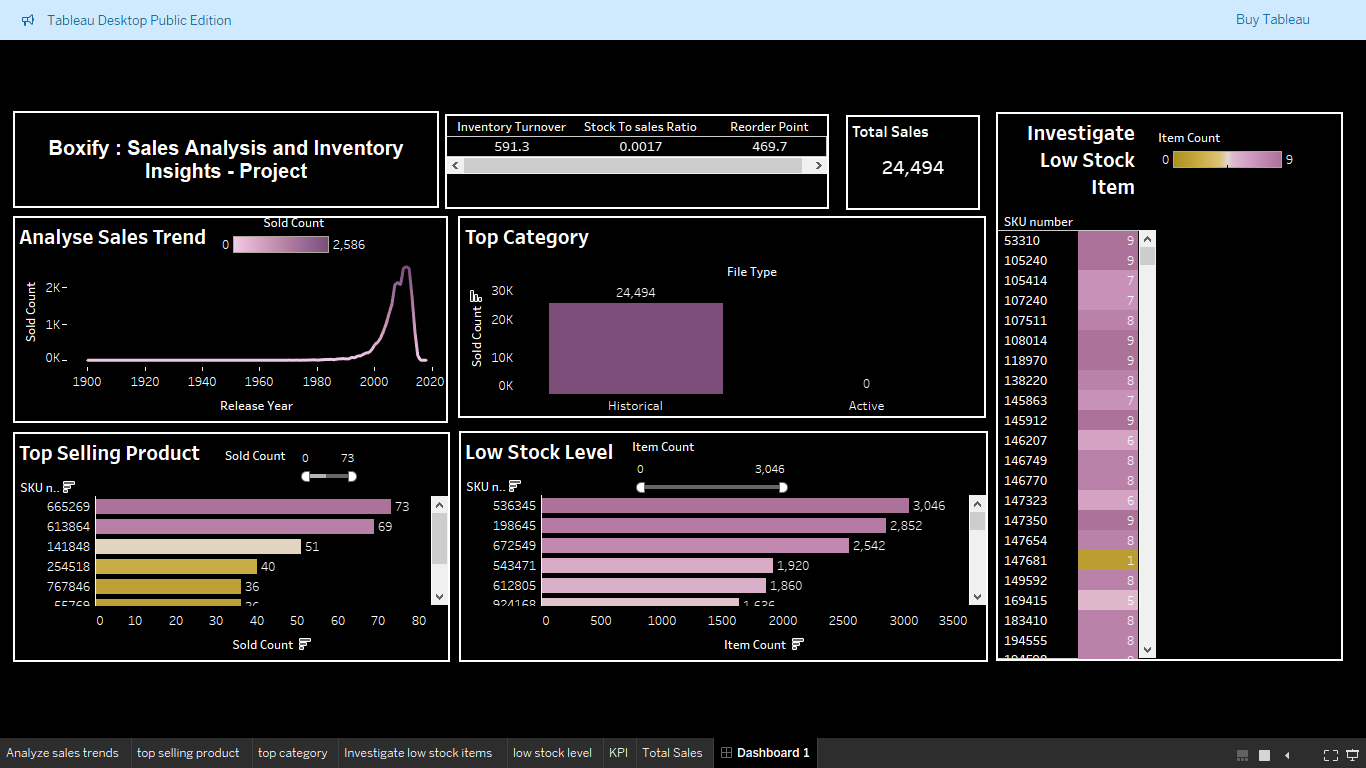

What the dashboard file says about the page in this screenshot:
{"tool":"tableau","page":{"name":"Dashboard 1","canvas":[1350,560],"ordinal":0},"visuals":[{"type":"text","box":[5,2,426,97]},{"type":"worksheet","title":"Investigate low stock items","mark":"Automatic","rows":["SKU_number"],"box":[988,3,347,549]},{"type":"worksheet","title":"KPI","mark":"Automatic","box":[437,5,384,95]},{"type":"worksheet","title":"Total Sales","mark":"Automatic","box":[838,6,134,95]},{"type":"legend","title":"Investigate low stock items","param":"[federated.0tz051w0s7qlxx1895oge1tk6e6b].[sum:ItemCount:qk]","box":[1150,20,140,76]},{"type":"legend","title":"Analyze sales trends","param":"[federated.0tz051w0s7qlxx1895oge1tk6e6b].[sum:SoldCount:qk]","box":[210,105,152,41]},{"type":"worksheet","title":"Analyze sales trends","mark":"Line","rows":["SoldCount"],"cols":["ReleaseYear"],"box":[5,107,435,207]},{"type":"worksheet","title":"top category","mark":"Bar","rows":["SoldCount"],"cols":["File_Type"],"box":[450,107,528,202]},{"type":"worksheet","title":"low stock level","mark":"Automatic","rows":["SKU_number"],"cols":["ItemCount"],"box":[451,322,529,231]},{"type":"worksheet","title":"top selling product","mark":"Automatic","rows":["SKU_number"],"cols":["SoldCount"],"box":[5,323,437,230]},{"type":"filter","title":"low stock level","param":"[federated.0tz051w0s7qlxx1895oge1tk6e6b].[sum:ItemCount:qk]","box":[624,329,160,57]},{"type":"filter","title":"top selling product","param":"[federated.0tz051w0s7qlxx1895oge1tk6e6b].[sum:SoldCount:qk]","box":[217,336,136,37]}]}

Visuals, with their boxes in screenshot pixels (x1, y1, x2, y2):
text: box=[12, 109, 437, 206]
"Investigate low stock items" worksheet: box=[993, 110, 1339, 658]
"KPI" worksheet: box=[443, 112, 826, 207]
"Total Sales" worksheet: box=[843, 113, 977, 208]
"Investigate low stock items" legend: box=[1155, 127, 1294, 203]
"Analyze sales trends" legend: box=[217, 211, 368, 252]
"Analyze sales trends" worksheet (Line marks): box=[12, 213, 446, 420]
"top category" worksheet (Bar marks): box=[456, 213, 983, 415]
"low stock level" worksheet: box=[457, 428, 985, 659]
"top selling product" worksheet: box=[12, 429, 448, 659]
"low stock level" filter: box=[630, 435, 789, 492]
"top selling product" filter: box=[224, 442, 359, 479]
